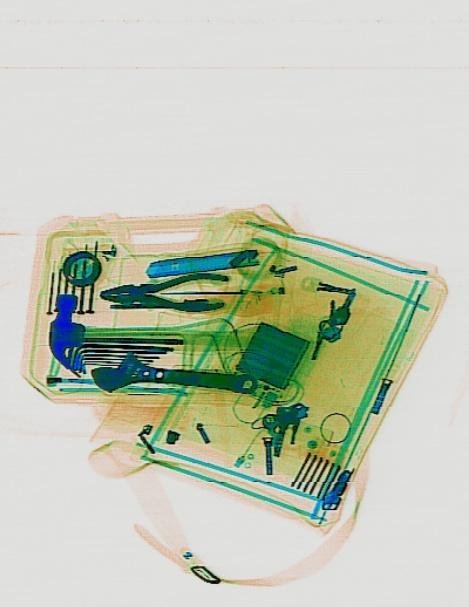Pliers: (100, 270, 229, 311)
Wrench: (87, 350, 257, 403)
